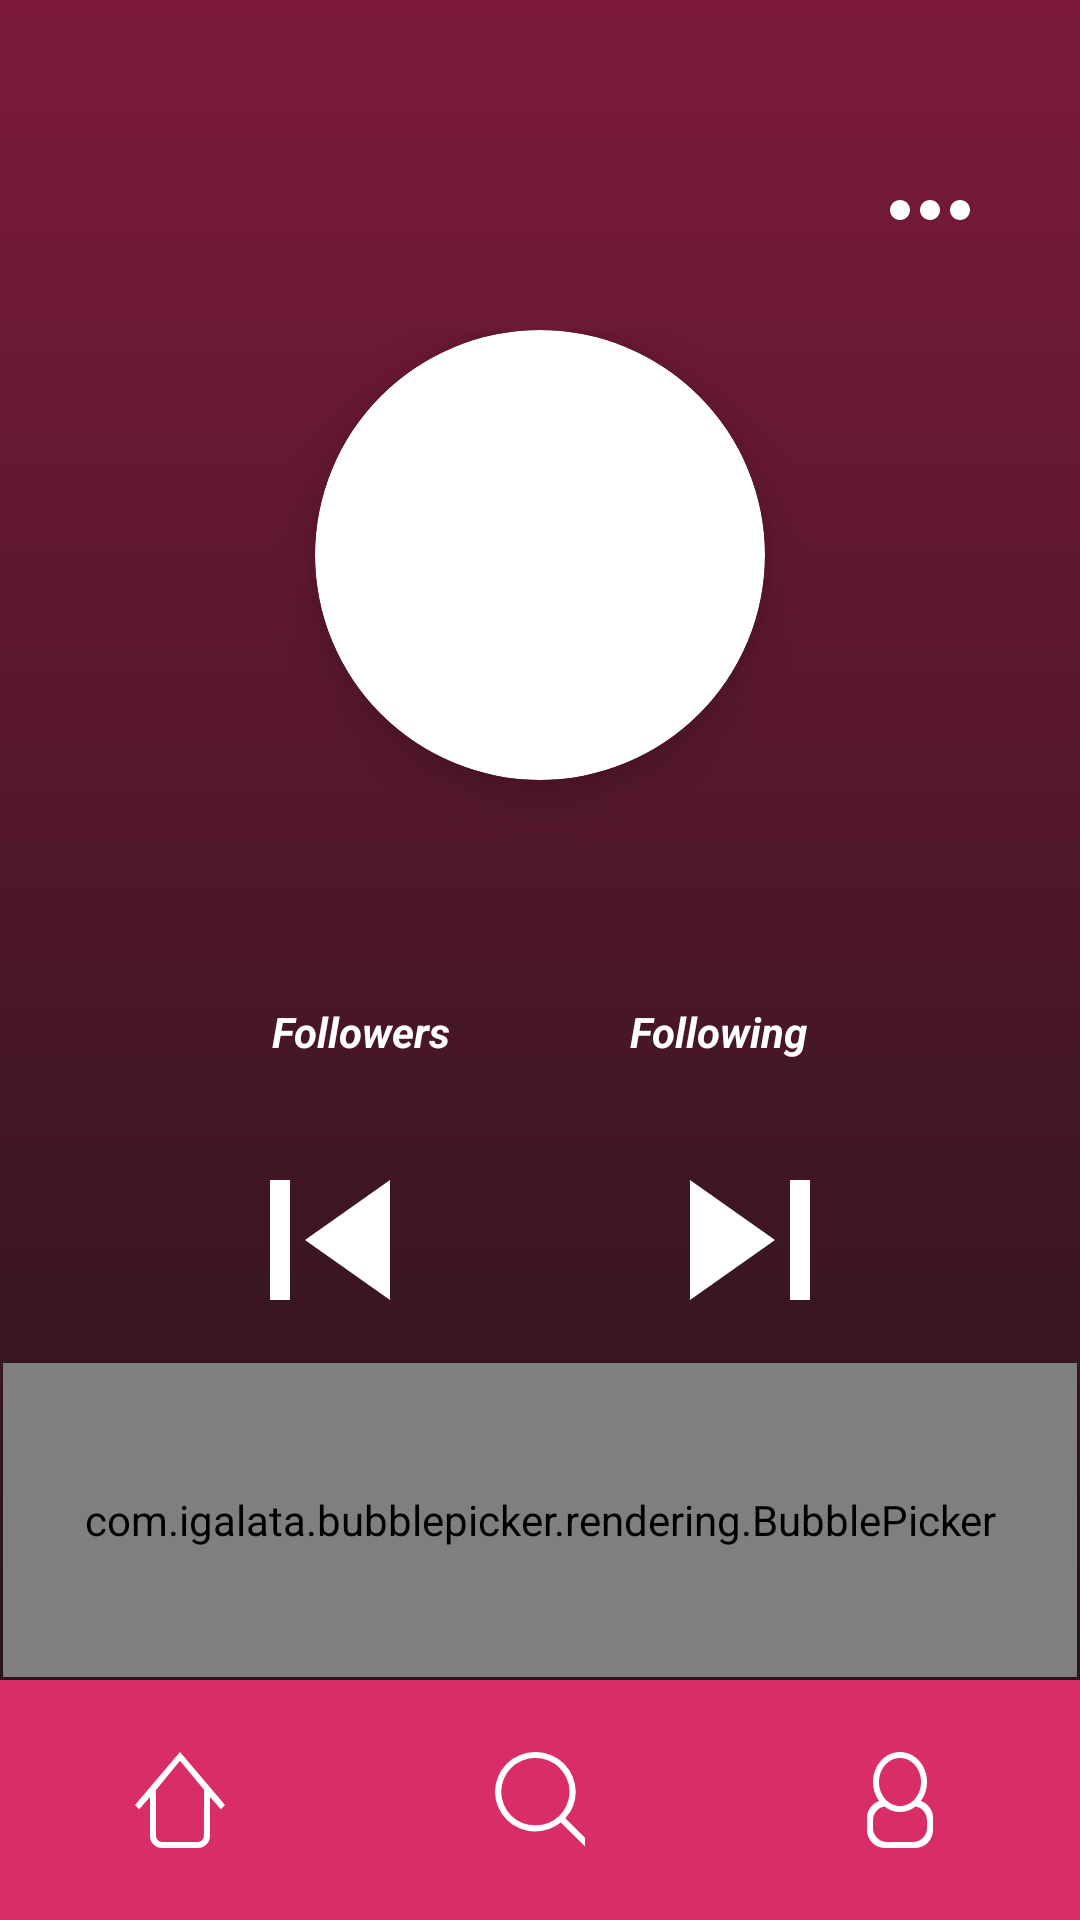

Locate icon controls on the screen. Image size 1080px x 1920px, boxes as (x1, y1, x2, y2).
home: (135, 1752, 225, 1848)
profile: (867, 1752, 933, 1848)
search: (495, 1752, 585, 1847)
skip next: (690, 1180, 810, 1300)
skip previous: (270, 1180, 390, 1300)
three dots horizontal: (890, 200, 970, 220)
